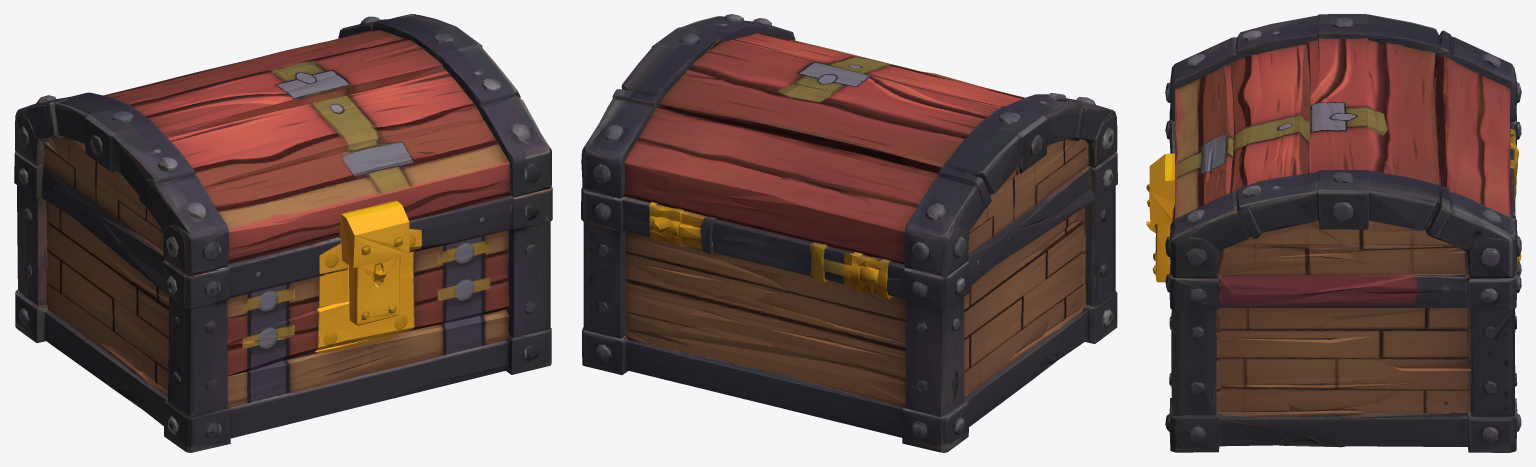
File: prop_chest.glb
3 renders of one model, left to right at view 1: azimuth 30°, elevation 25°; view 2: azimuth 150°, elevation 25°; view 3: azimuth 270°, elevation 25°, orthographic.
Bounding box in the file's own units: 1.9 × 1.3 × 1.65.
1 material, 1 textured.
